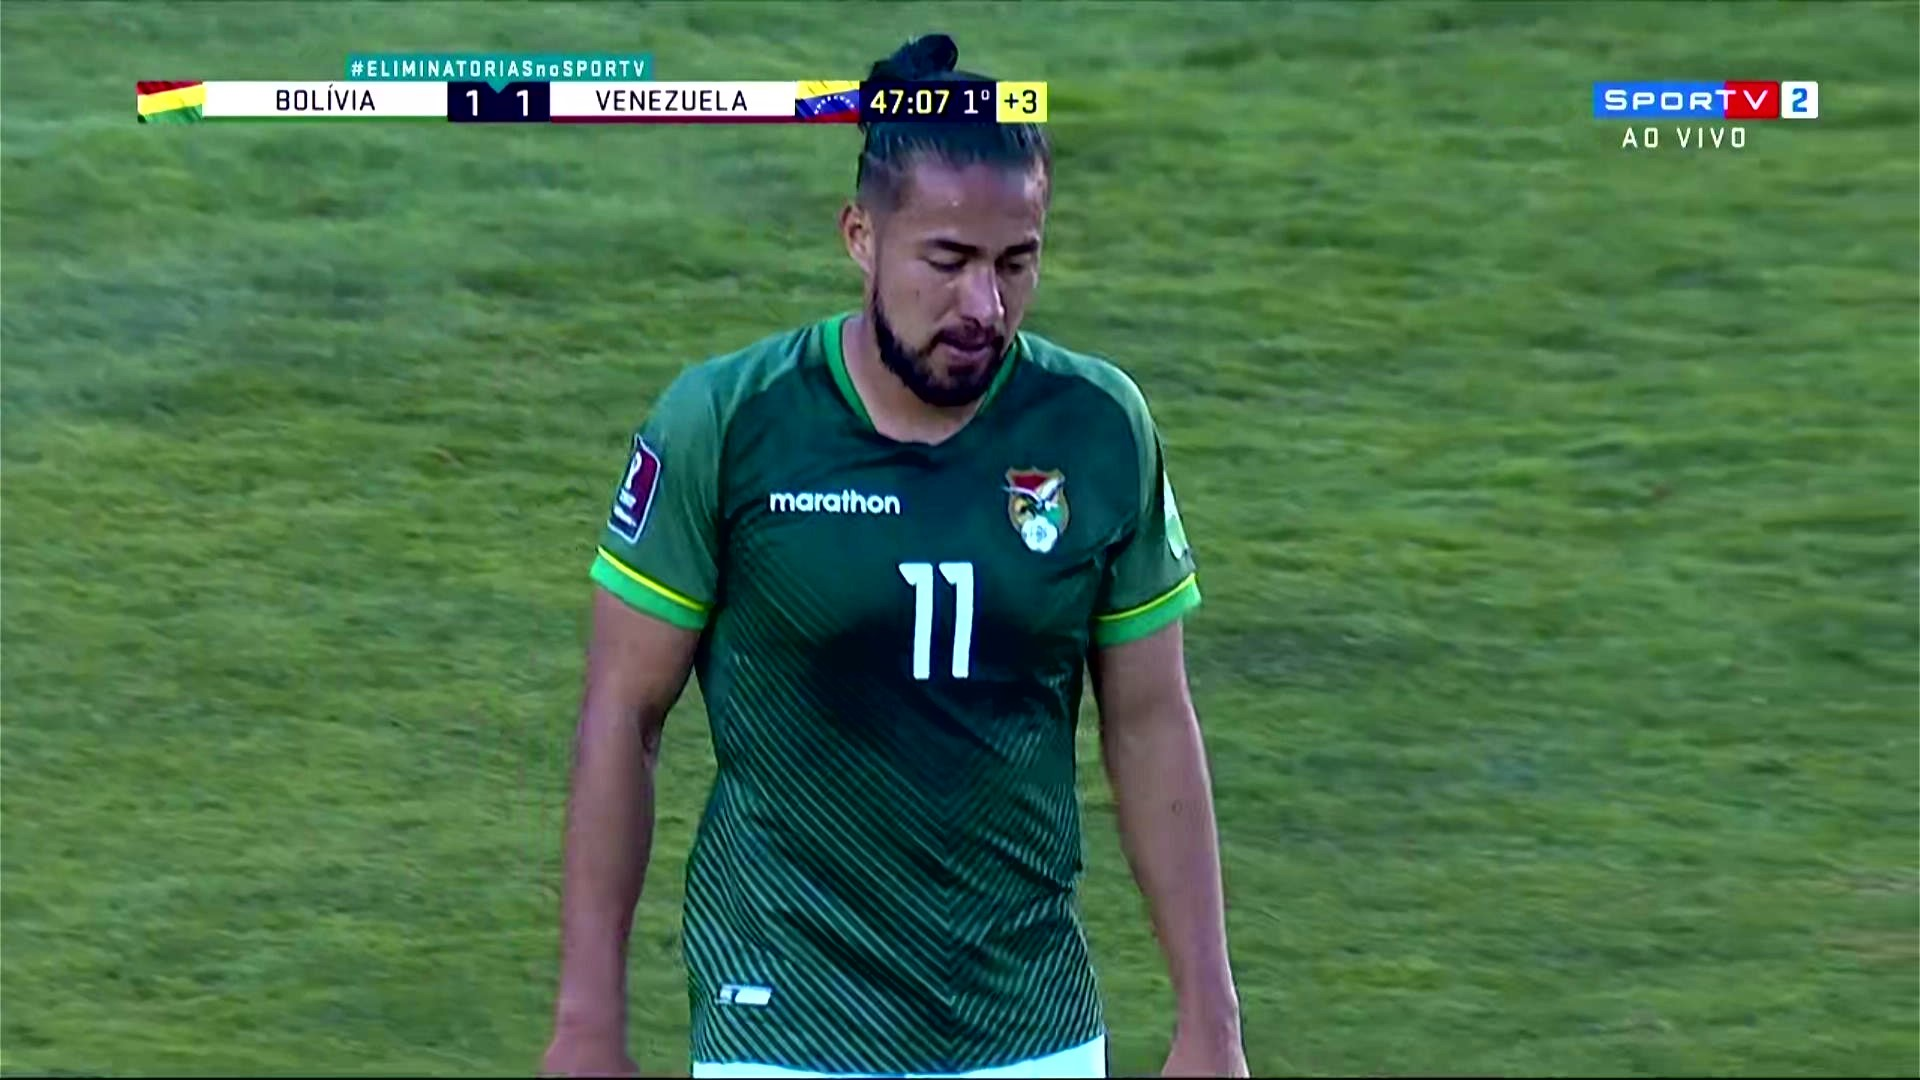sportv2: (1589, 80, 1822, 120)
